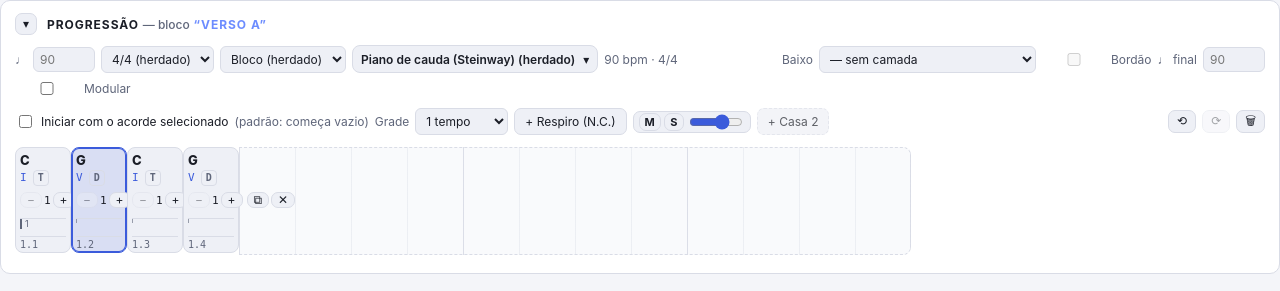
Test: progressão › Shift+clique define a região e ✕ desfaz
What coordinates should you click on to do the following:
click the list item "G V D − 1 + ⧉ ✕ 1.4"
I would click on:
 (211, 200)
Its box is x1=183 y1=147 x2=239 y2=253.
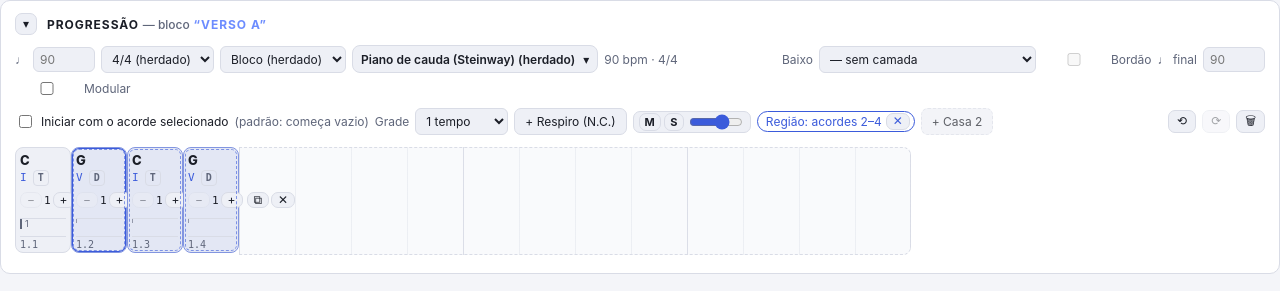
Result: the text "Região: acordes 2–4 ✕" is shown at x1=757 y1=111 x2=915 y2=132
What coordinates should you click on to do the following:
click the button named "Desfazer região"
I would click on:
 (898, 122)
Its box is x1=886 y1=113 x2=910 y2=130.
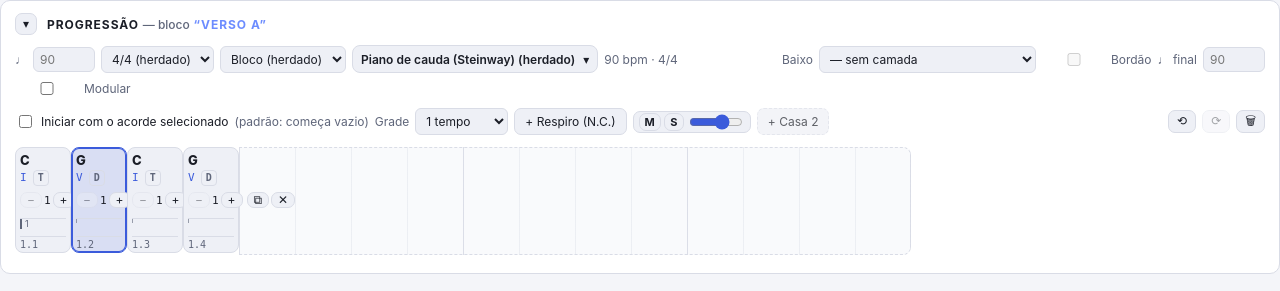
Result: the text "Região:" is gone
